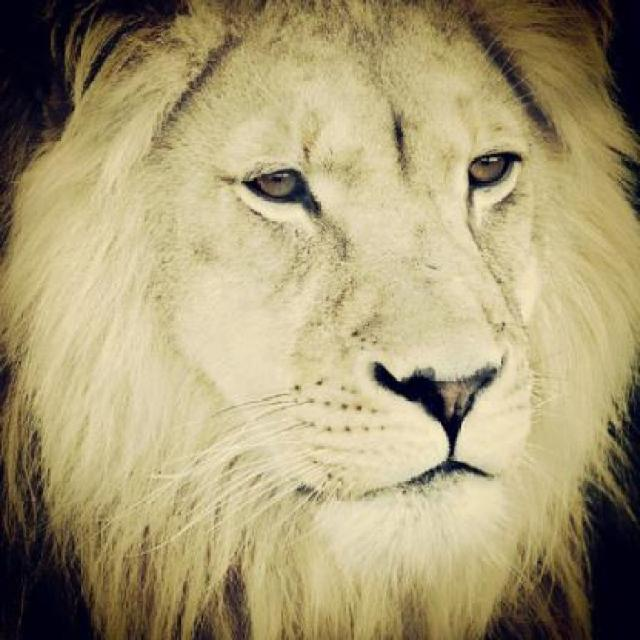Lion: (2, 19, 636, 638)
